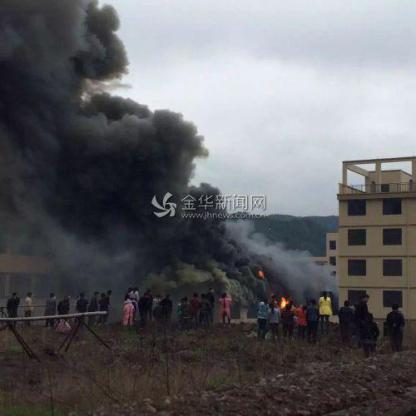fire: (277, 294, 287, 309)
